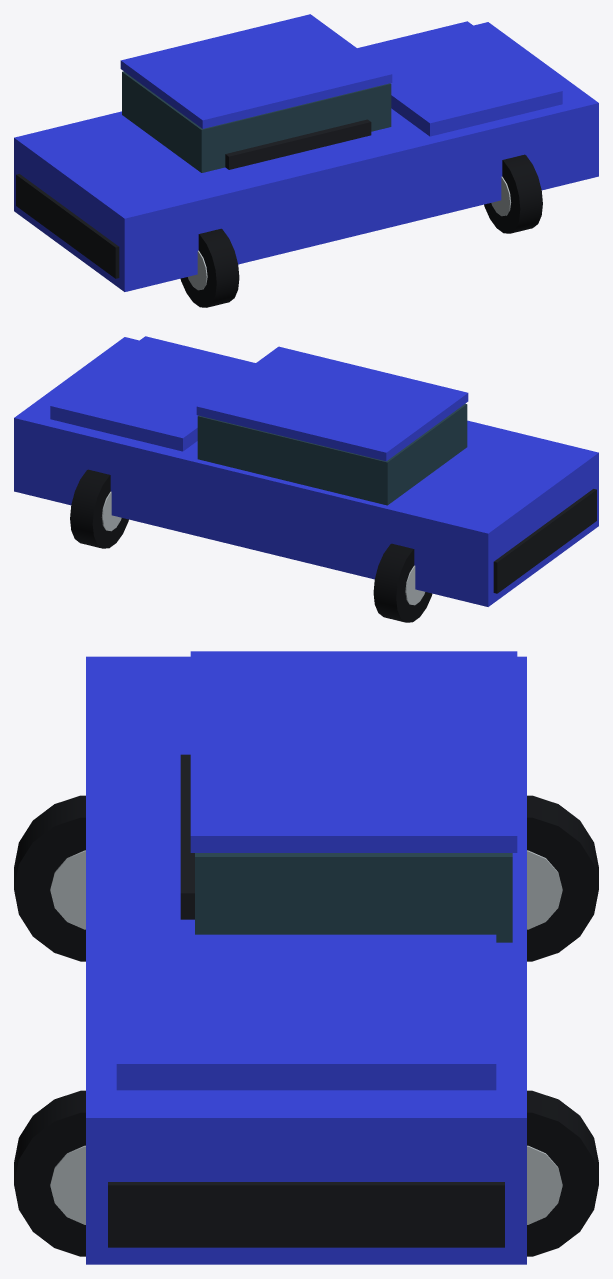
The model's file is ford_taurus.glb.
3 views of the same model, one above another, from view 1: azimuth 30°, elevation 25°; view 2: azimuth 150°, elevation 25°; view 3: azimuth 270°, elevation 25° (orthographic). The views are drawn at different scales.
Parts seen in each view (by area): view 1: body, roof, hood, cabin, rear_bumper, rear_right_wheel, front_right_wheel, interior; view 2: body, roof, hood, cabin, rear_bumper, rear_left_wheel, front_left_wheel; view 3: body, roof, hood, cabin, front_bumper, rear_left_wheel, rear_right_wheel, front_left_wheel, front_right_wheel, interior.
Boxes of the visible parts, <box> form: body: <box>14,22,598,291</box>; roof: <box>120,14,392,128</box>; hood: <box>357,21,562,136</box>; cabin: <box>122,71,391,172</box>; rear_bumper: <box>16,174,119,278</box>; rear_right_wheel: <box>180,228,239,307</box>; front_right_wheel: <box>484,154,542,233</box>; interior: <box>225,119,371,169</box>; body: <box>14,337,598,606</box>; roof: <box>196,346,468,461</box>; hood: <box>50,336,255,451</box>; cabin: <box>197,403,467,505</box>; rear_bumper: <box>493,489,596,593</box>; rear_left_wheel: <box>373,543,432,622</box>; front_left_wheel: <box>70,469,128,548</box>; body: <box>86,656,526,1264</box>; roof: <box>190,651,517,852</box>; hood: <box>116,934,496,1090</box>; cabin: <box>195,853,512,942</box>; front_bumper: <box>108,1182,504,1247</box>; rear_left_wheel: <box>527,795,598,961</box>; rear_right_wheel: <box>14,795,85,961</box>; front_left_wheel: <box>527,1090,598,1256</box>; front_right_wheel: <box>14,1090,85,1256</box>; interior: <box>180,754,194,919</box>.
Size of the model in its own units: 4.67 by 1.48 by 2.47.
